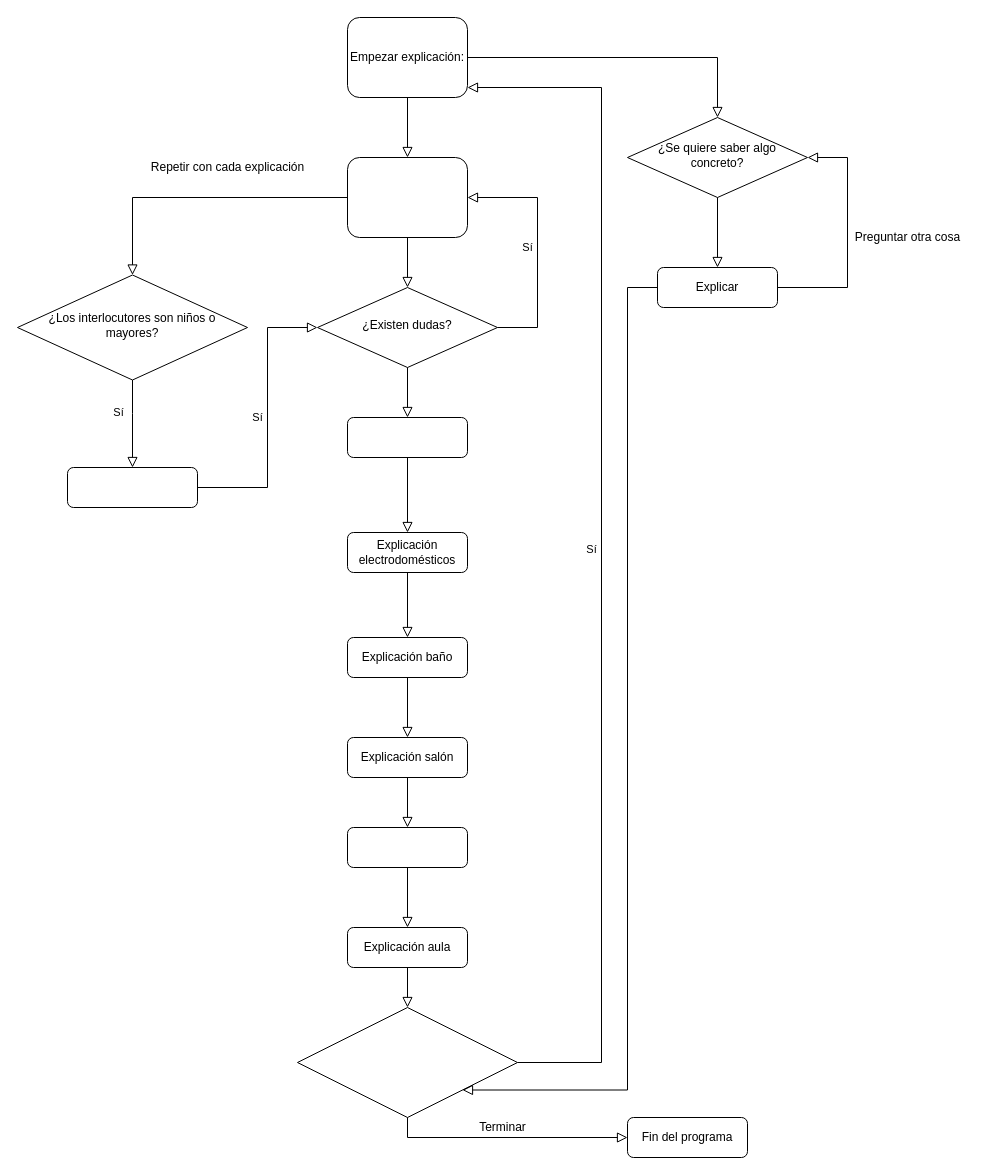
This 985x1175 diagram has some shape labels left out. Here are the shapes that lost their labels. From the top down, the centre of each, then its label:
the point at 407,197: Explicar sensor huellas dactilares/portero automático
the point at 407,437: Explicación sensores/cámaras -> iluminación
the point at 132,487: Explicar con videos, imágenes más visuales, etc.
the point at 407,847: Explicación dormitorio
the point at 407,1062: ¿Terminar programa o empezar de nuevo?
